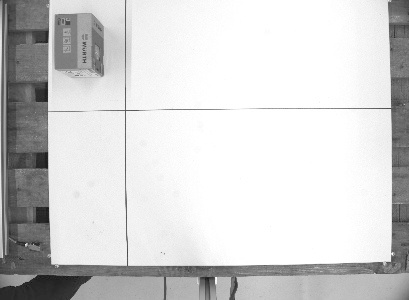b4: (50, 11, 107, 80)
